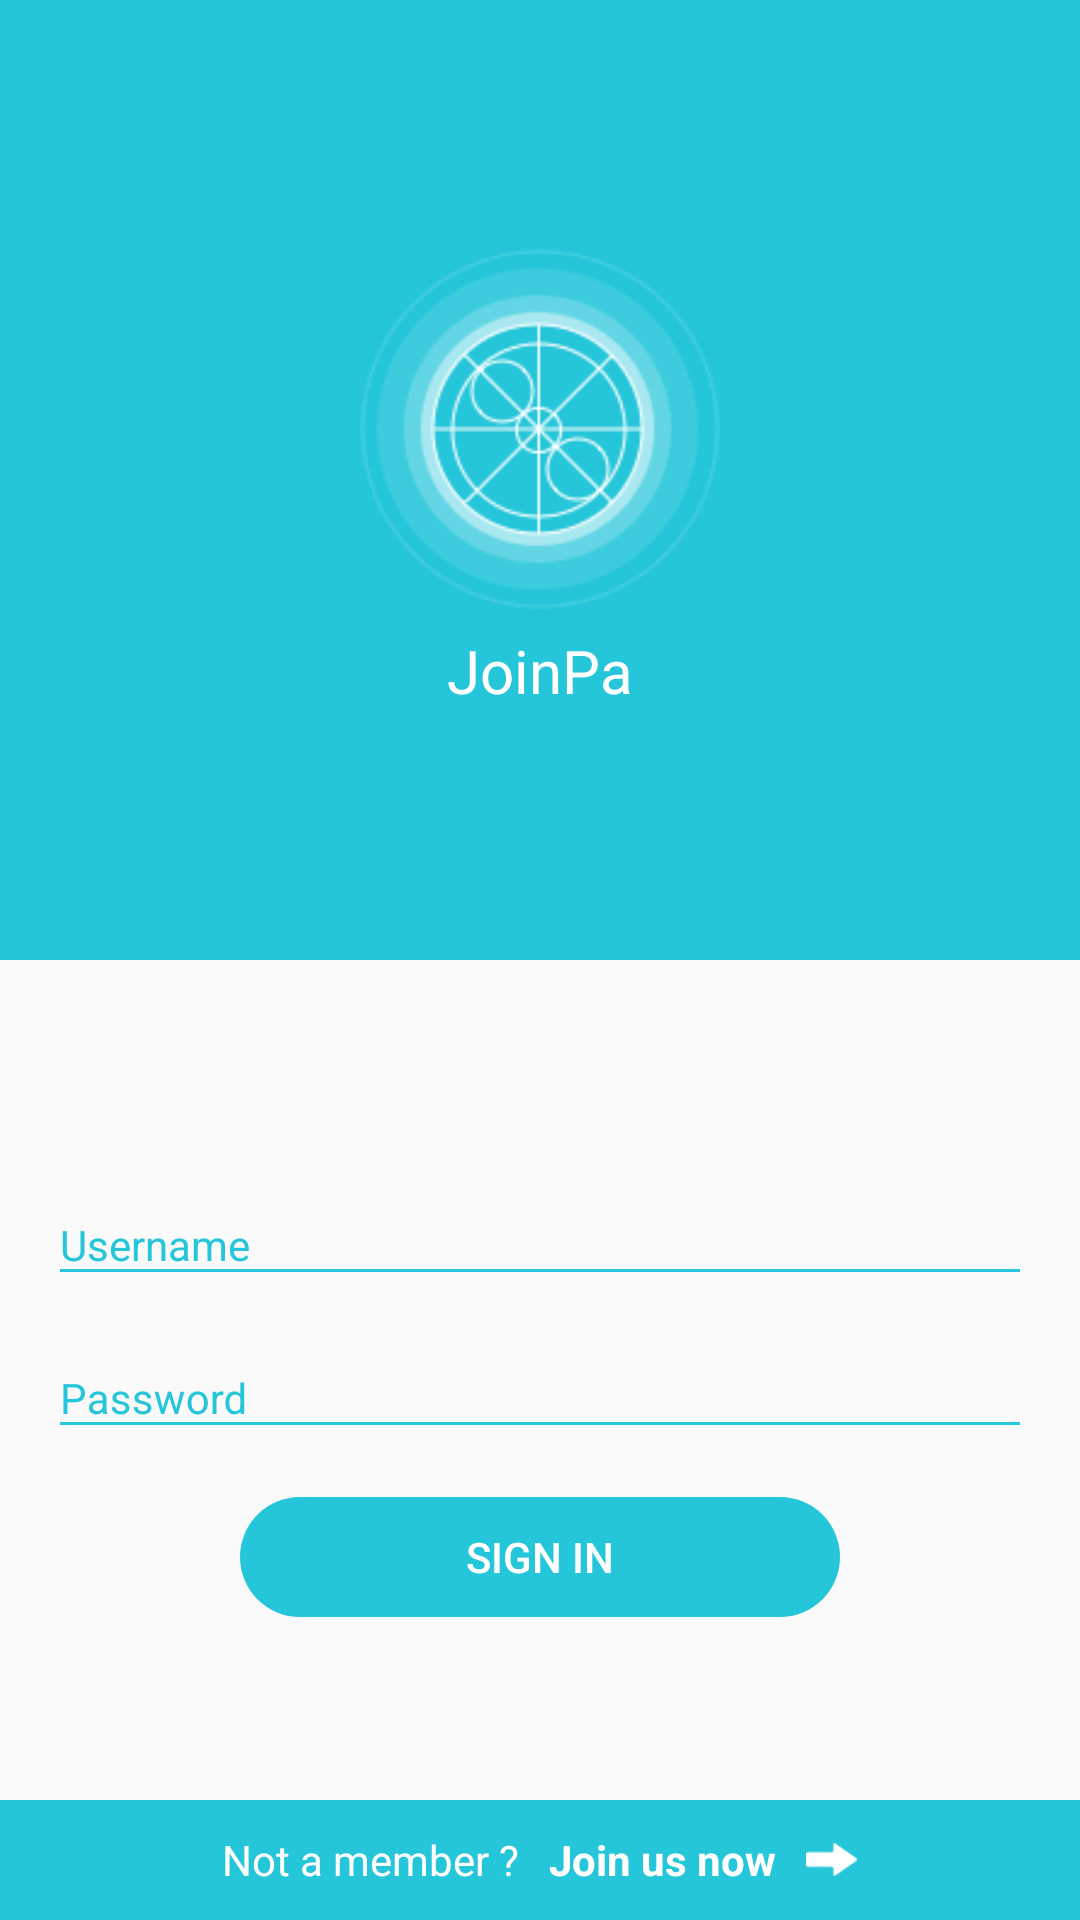

Named icons in this screenshot (1080 × 1920) and their centers, [x,y]:
right arrow: [831,1859]
